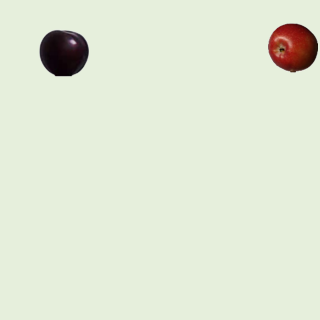Apple Braeburn: (267, 22, 317, 72)
Cherry Wax Black: (38, 27, 88, 77)
